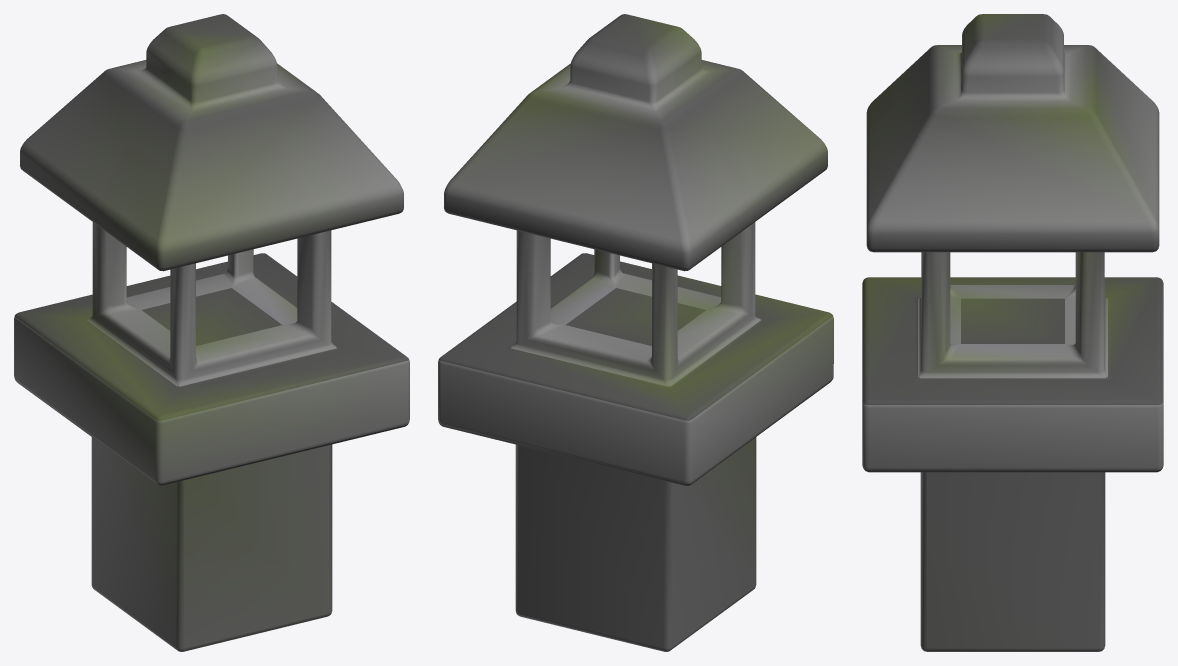
The model's file is SmallLamp.fbx.
3 views of the same model, side by side, from view 1: azimuth 30°, elevation 25°; view 2: azimuth 150°, elevation 25°; view 3: azimuth 270°, elevation 25° (orthographic). The views are drawn at different scales.
Visible parts, largest first — view 1: Cube.613; view 2: Cube.613; view 3: Cube.613.
Boxes of the visible parts, left/top/right/bottom form: Cube.613: left=14, top=14, right=409, bottom=651; Cube.613: left=438, top=14, right=833, bottom=651; Cube.613: left=862, top=14, right=1163, bottom=651.
Size of the model in its own units: 0.9422 by 0.9422 by 2.03.
